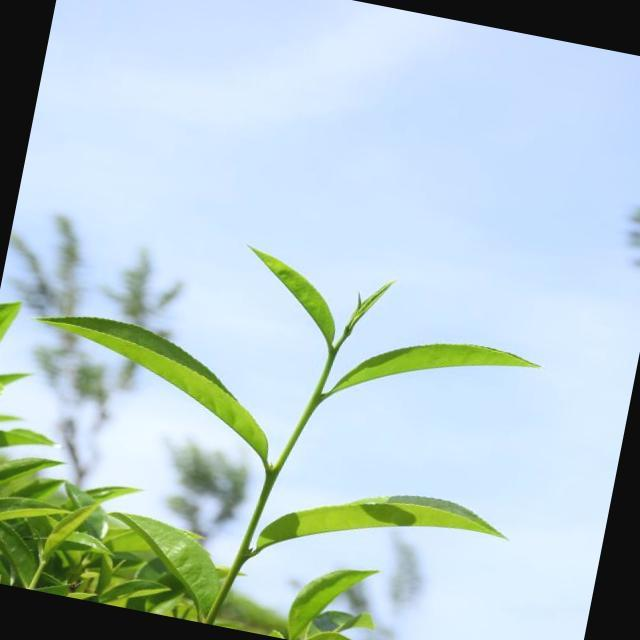Stem: (328, 347, 338, 359)
